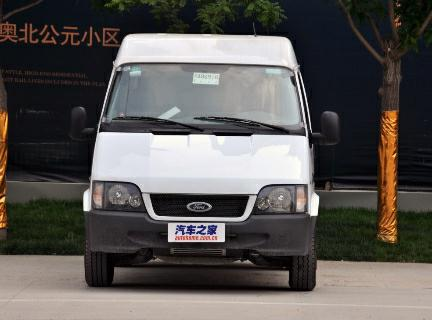福特-经典全顺: (82, 28, 323, 295)
